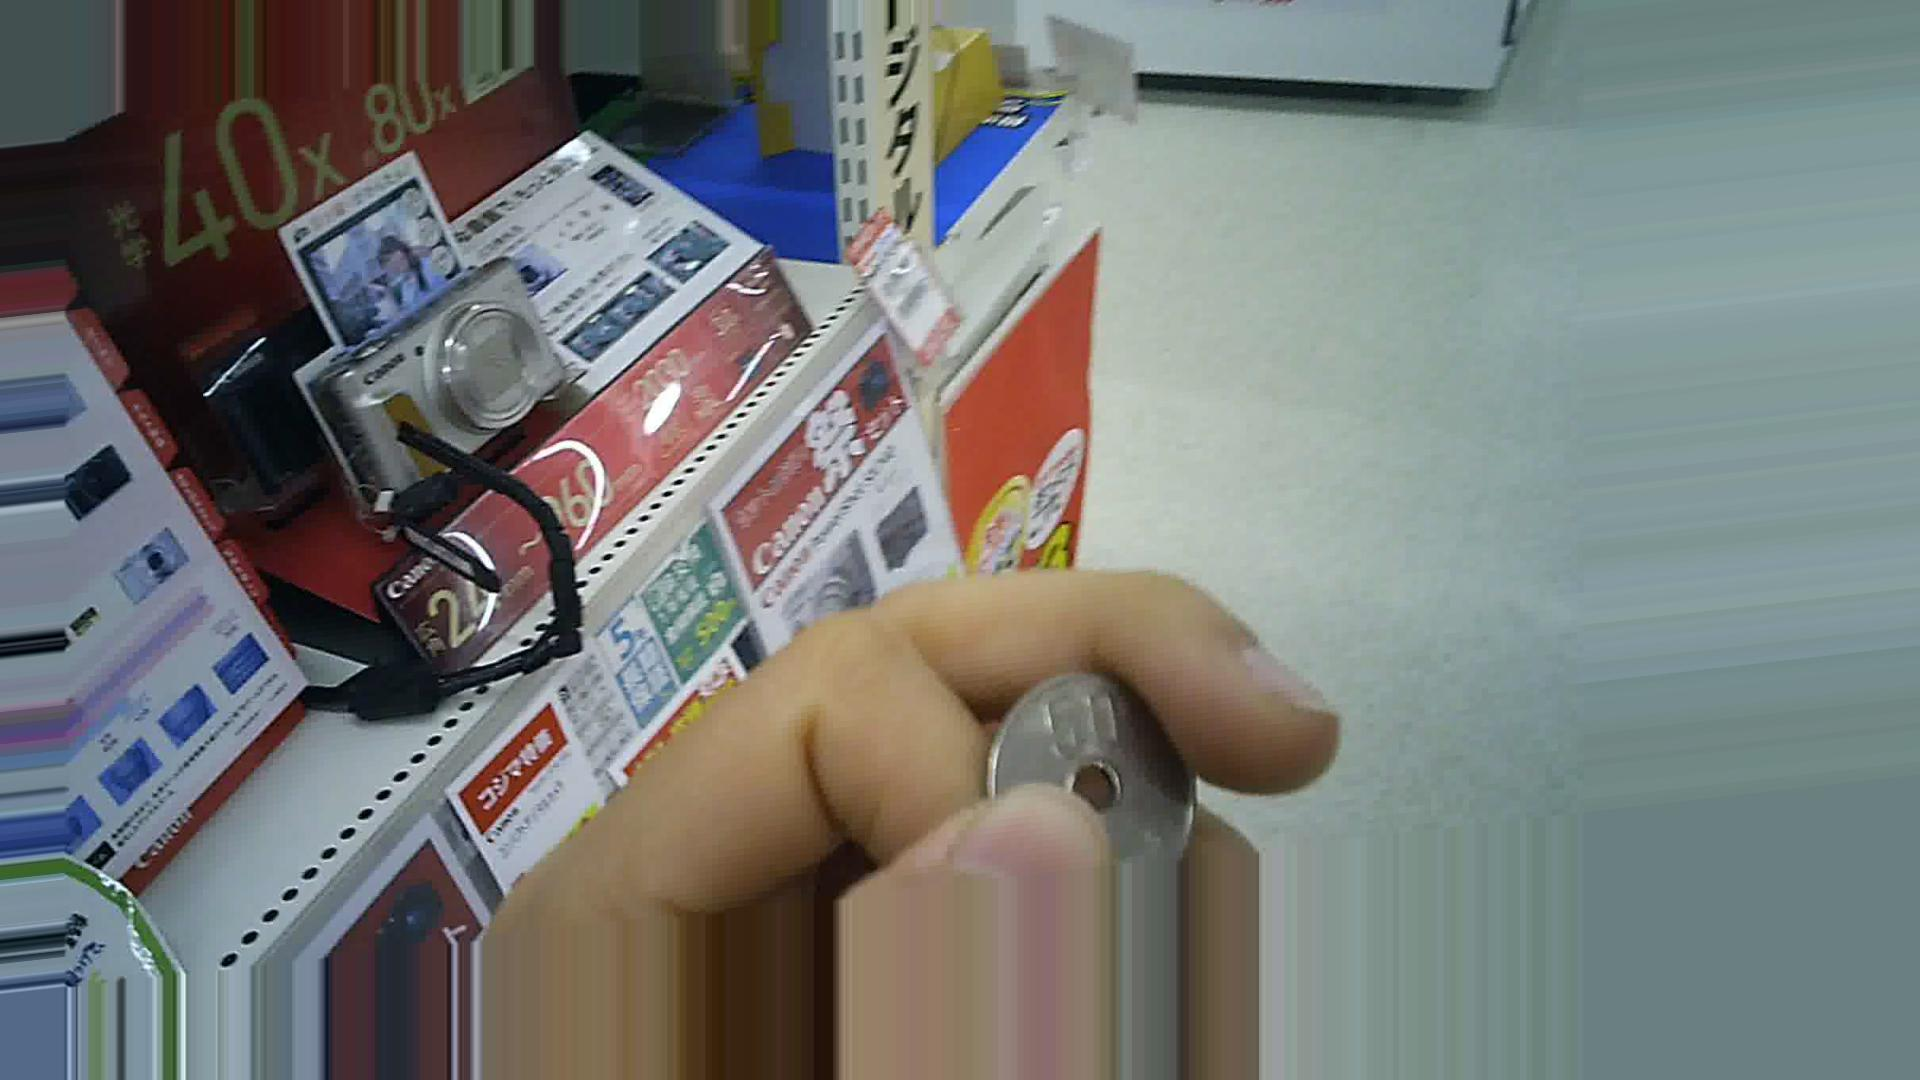50 Yen: (972, 649, 1204, 869)
